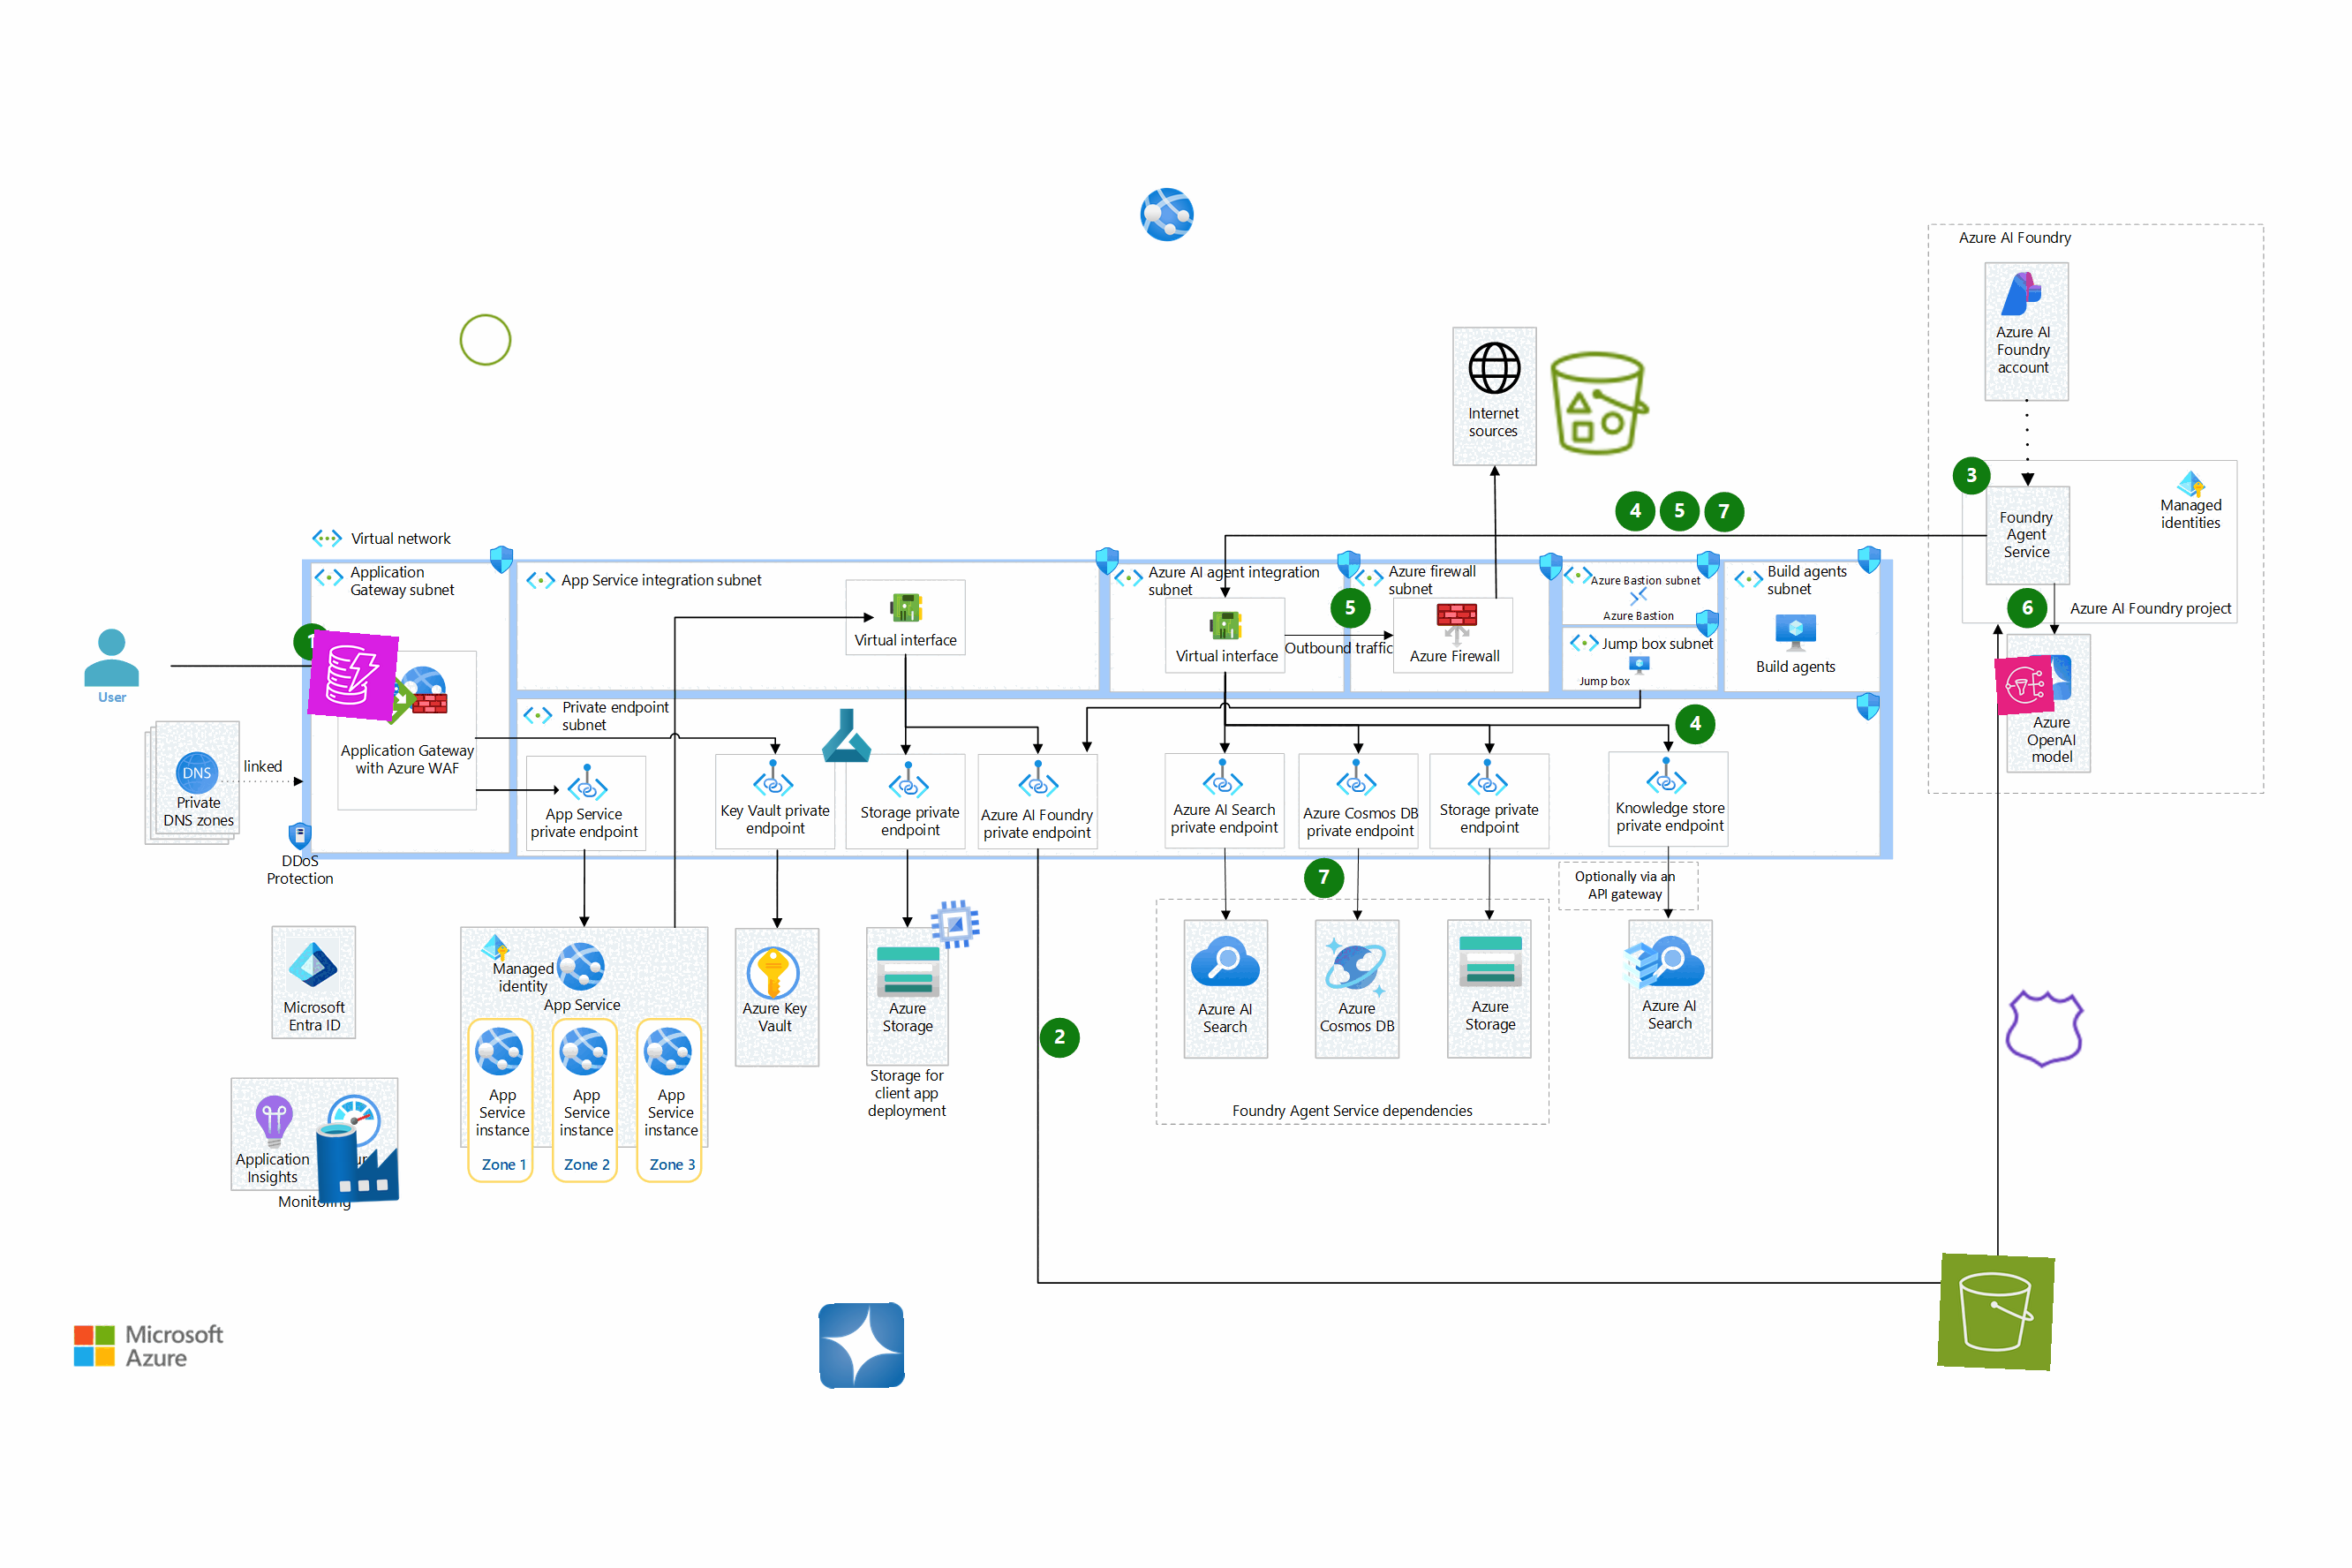aws_amazon_dynamodb: (308, 630, 399, 721)
aws_amazon_simple_notification_service: (1993, 654, 2054, 716)
aws_amazon_simple_storage_service: (1937, 1253, 2054, 1370)
aws_route_53_hosted_zone: (2000, 983, 2091, 1074)
aws_simple_storage_service_bucket_with_objects: (1542, 345, 1657, 462)
aws_simple_storage_service_object: (455, 310, 516, 369)
azure_app_services: (1137, 184, 1197, 245)
azure_data_factories: (313, 1118, 402, 1206)
azure_machine_learning: (817, 707, 875, 765)
azure_openai: (819, 1302, 905, 1389)
gcp_cloud_sql: (1610, 936, 1671, 996)
gcp_compute_engine: (924, 894, 987, 955)
